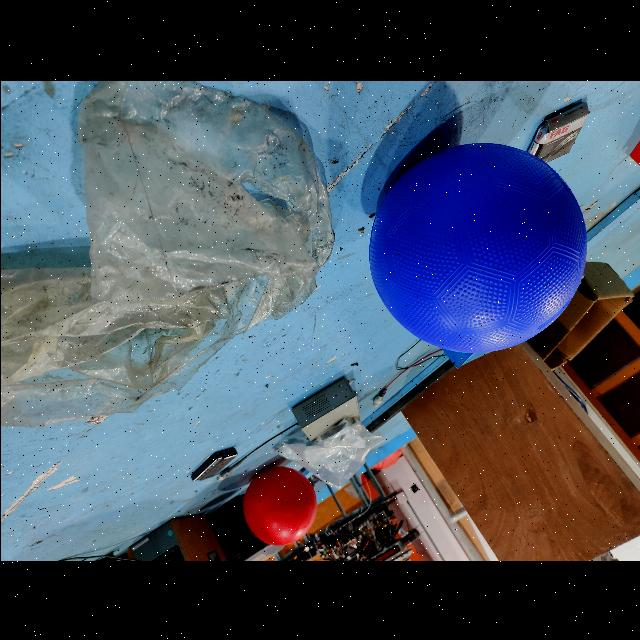B: (367, 143, 589, 354)
R: (242, 466, 316, 546)
